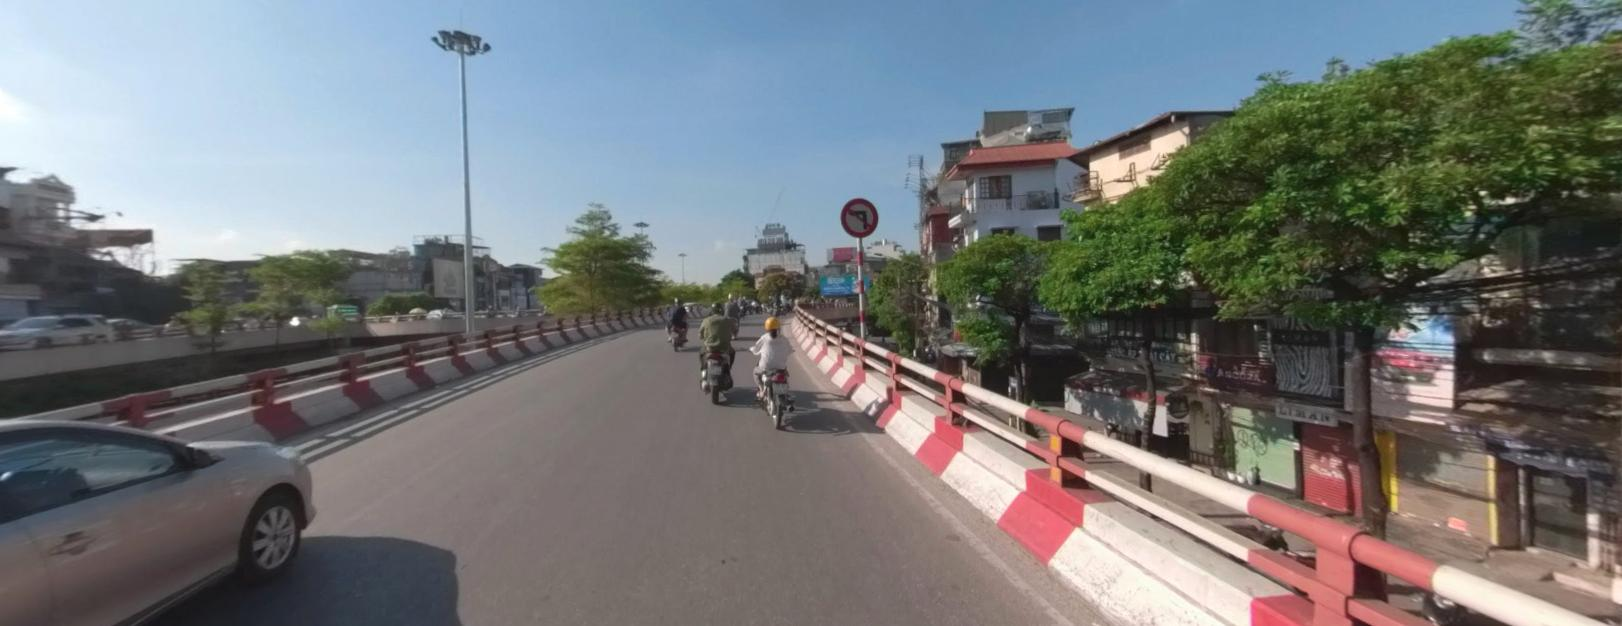Cam re: (840, 197, 878, 236)
